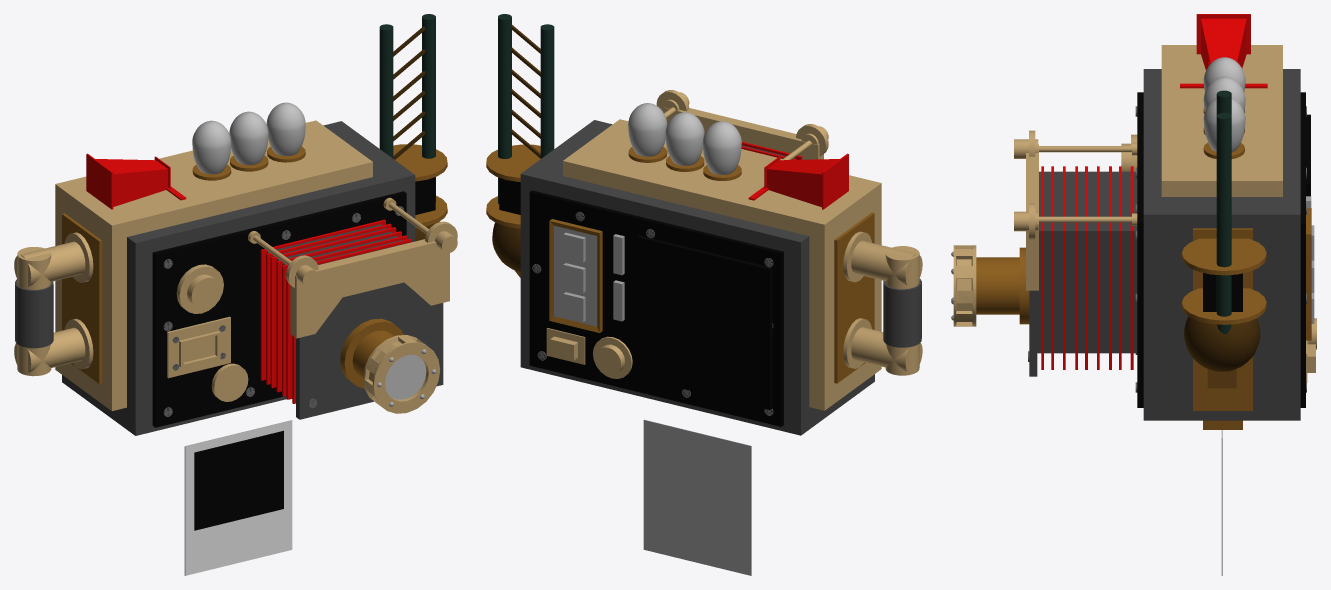
The model's file is camera.gltf.
3 views of the same model, side by side, from view 1: azimuth 30°, elevation 25°; view 2: azimuth 150°, elevation 25°; view 3: azimuth 270°, elevation 25° (orthographic). The views are drawn at different scales.
Visible parts, largest first — view 1: pCube1, pCube16, pCube12, pCube45, pCube15, pCube17, pCylinder3, pCube13, pCylinder23, pCube22, pCylinder27, pCylinder26 (+24 smaller); view 2: pCube35, pCube16, pCube34, pCube1, pCube45, pCube17, pCube36, pCylinder23, pCube22, pCube15, pCylinder27, pCylinder26 (+20 smaller); view 3: pCube1, pCube16, pCylinder27, pSphere33, pCube31, pCylinder2, pCylinder25, pCube12, pCube22, pCylinder3, pCube34, pCylinder24 (+20 smaller).
Part boxes in pixels (x1,y1,x2,y2): pCube1: (62, 121, 443, 435); pCube16: (55, 120, 372, 410); pCube12: (152, 191, 406, 427); pCube45: (184, 420, 292, 575); pCube15: (290, 239, 449, 338); pCube17: (62, 213, 102, 383); pCylinder3: (363, 334, 440, 413); pCube13: (167, 316, 230, 378); pCylinder23: (15, 279, 53, 348); pCube22: (95, 159, 168, 206); pCylinder27: (422, 14, 435, 202); pCylinder26: (379, 24, 393, 158); pCube35: (636, 235, 772, 409); pCube16: (563, 119, 881, 410); pCube34: (529, 190, 783, 426); pCube1: (520, 120, 874, 435); pCube45: (643, 419, 751, 575); pCube17: (834, 212, 874, 383); pCube36: (554, 225, 597, 326); pCylinder23: (883, 279, 921, 347); pCube22: (766, 159, 839, 207); pCube15: (663, 107, 823, 159); pCylinder27: (498, 14, 511, 203); pCylinder26: (540, 24, 554, 158); pCube1: (1029, 69, 1300, 420); pCube16: (1161, 45, 1282, 196); pCylinder27: (1216, 112, 1231, 334); pSphere33: (1184, 316, 1260, 371); pCube31: (1193, 228, 1252, 410); pCylinder2: (976, 257, 1019, 314); pCylinder25: (1182, 238, 1266, 275); pCube12: (1137, 92, 1143, 407); pCube22: (1201, 18, 1246, 70); pCylinder3: (953, 245, 976, 326); pCube34: (1300, 92, 1305, 407); pCylinder24: (1182, 288, 1266, 324).
Bounding box in the file's own units: 17.66 × 19.74 × 12.3.
